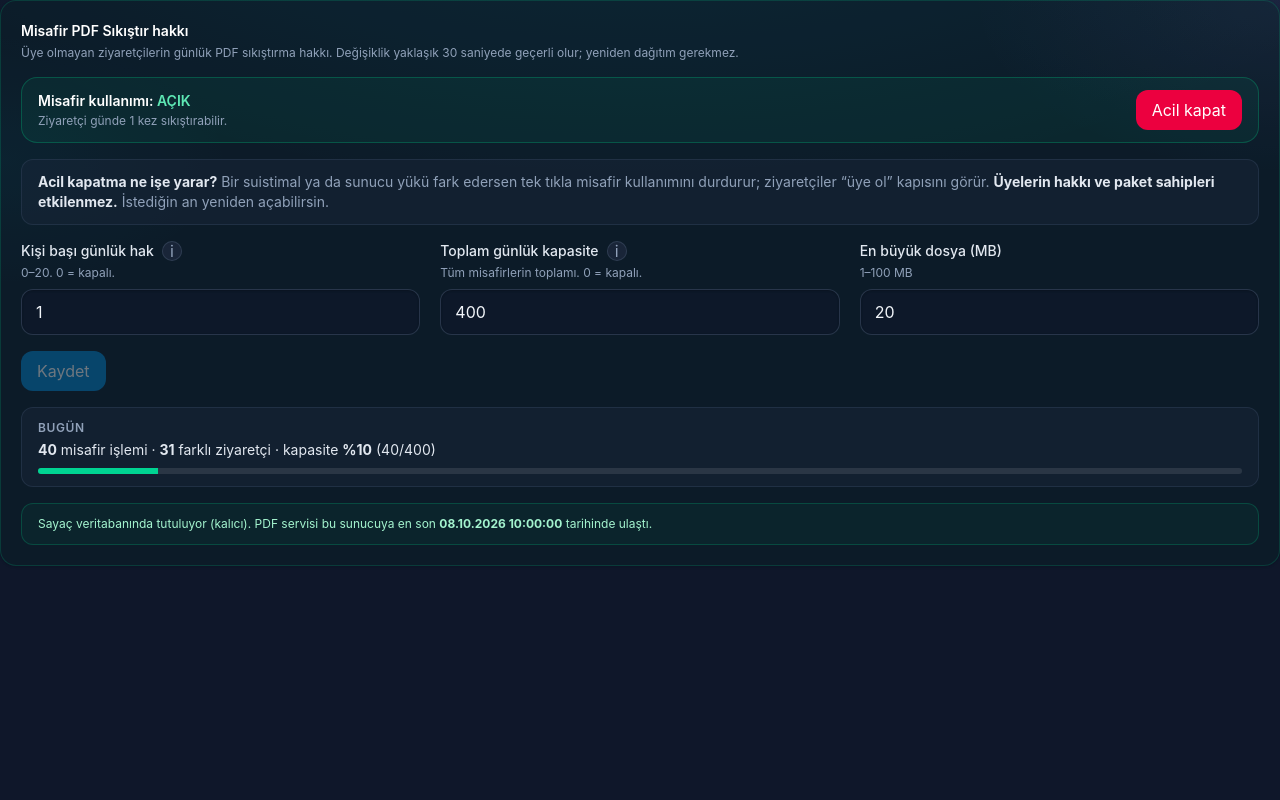
Test: GuestCompressSettings — yönetim paneli › misafir hakkı üye hakkına eşit/büyükse üyelik avantajı uyarısı verir
Replace the text in the number field below "0–20. 0 = kapalı." with "3" at (221, 312), box top-left (21, 289), bottom-right (420, 335)
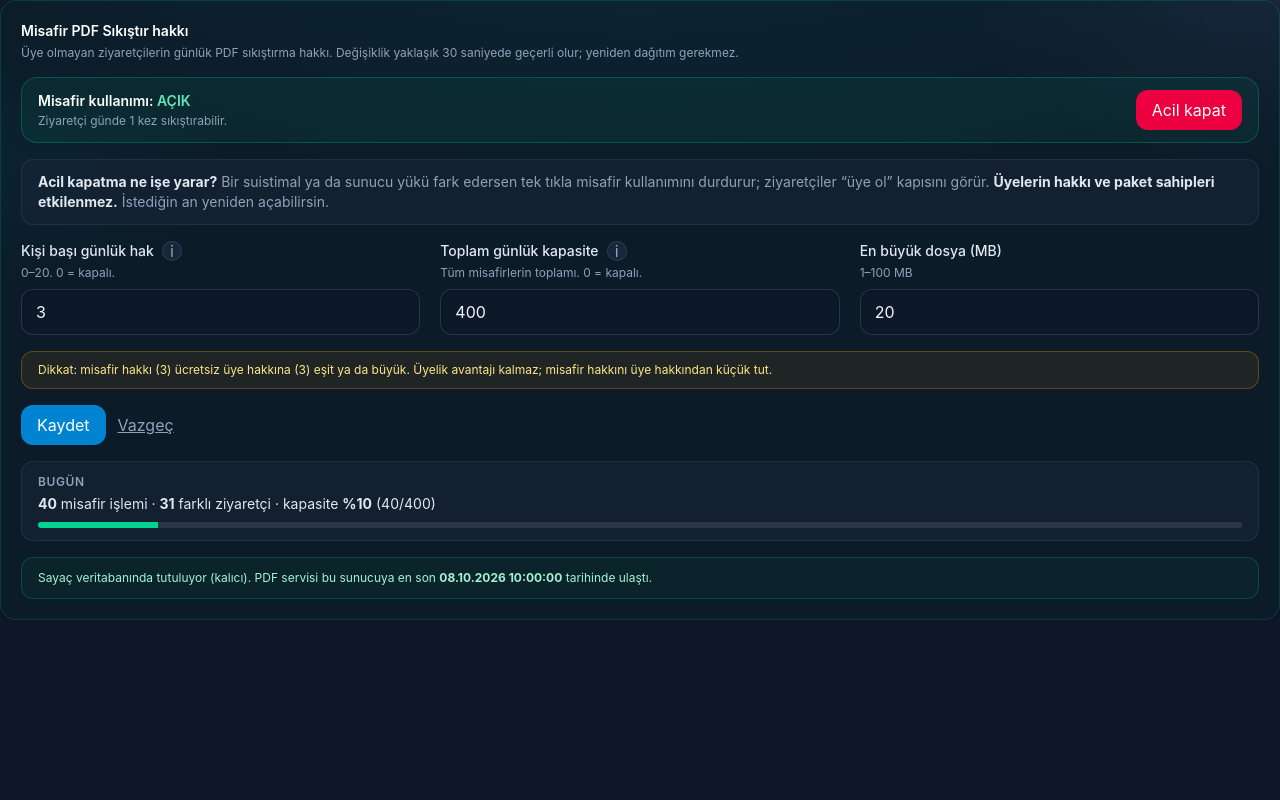
Check: the text "Üyelik avantajı kalmaz" is shown, box top-left (306, 362), bottom-right (772, 377)
